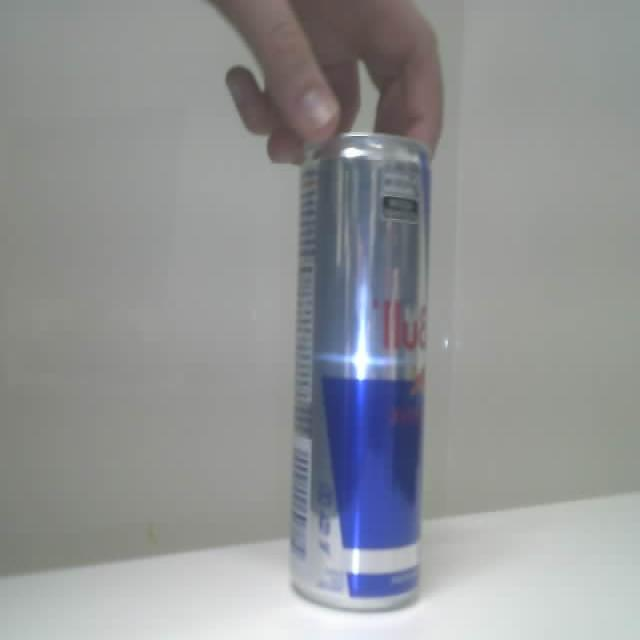redbull can: (290, 134, 429, 609)
